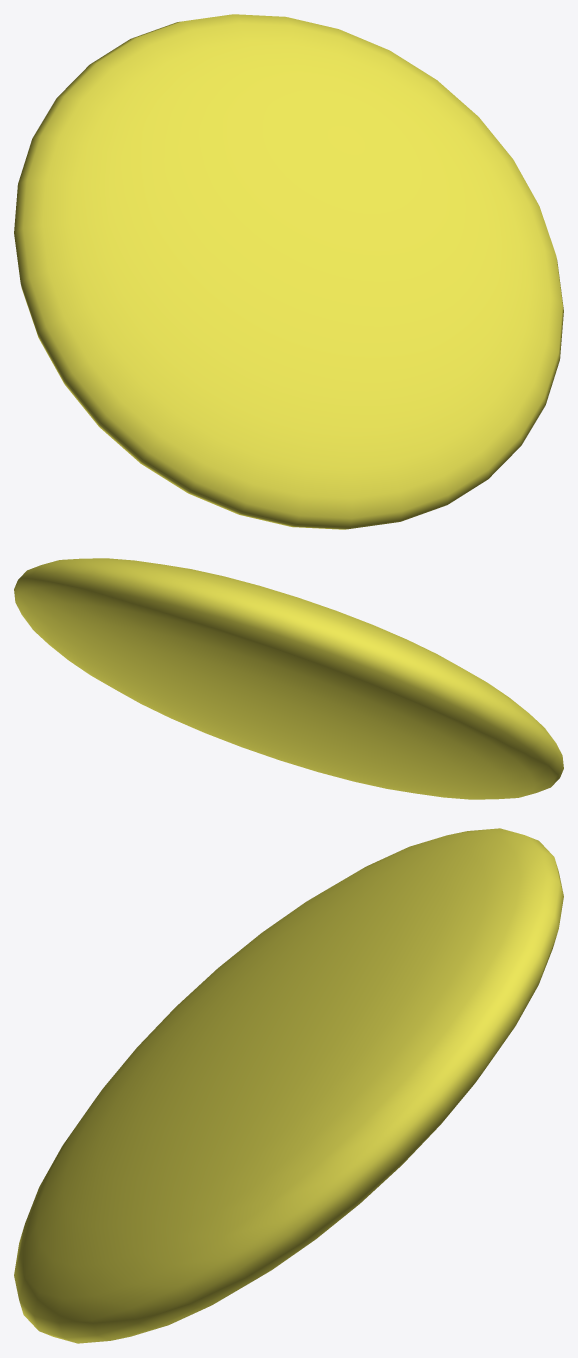
Rendered from BeehiveFlowerPollen.fbx.
3 renders of one model, top to bottom at view 1: azimuth 30°, elevation 25°; view 2: azimuth 150°, elevation 25°; view 3: azimuth 270°, elevation 25°, orthographic. The views are drawn at different scales.
Visible parts, largest first — view 1: FlowerPollen; view 2: FlowerPollen; view 3: FlowerPollen.
Part boxes in pixels (box(x1,y1,x2,y2)): FlowerPollen: box(14, 14, 563, 529); FlowerPollen: box(14, 558, 563, 799); FlowerPollen: box(14, 828, 563, 1343).
Bounding box in the file's own units: 64.57 × 50.46 × 42.58.
